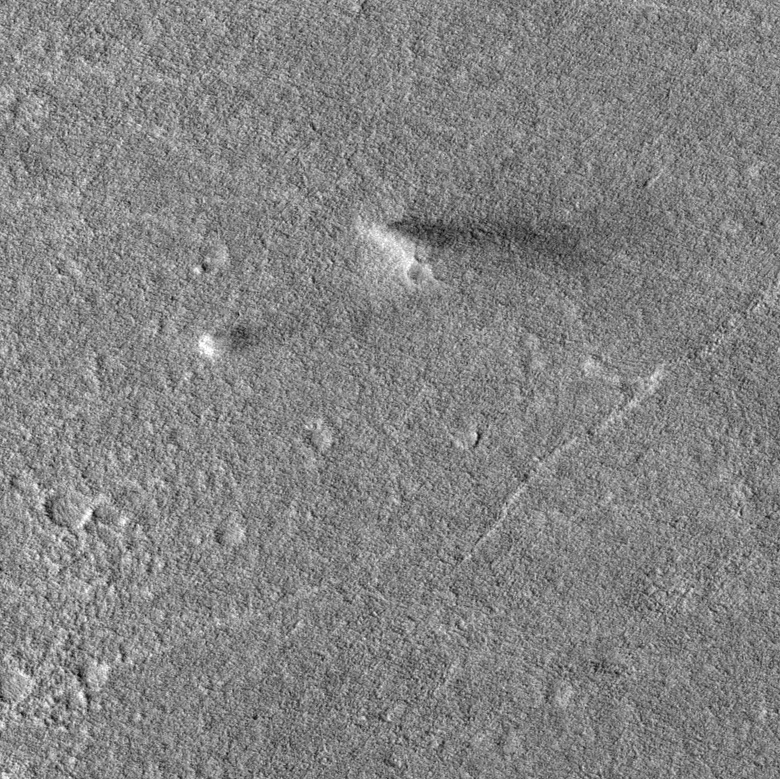dust_devil: (356, 206, 605, 289), (193, 322, 287, 359)
